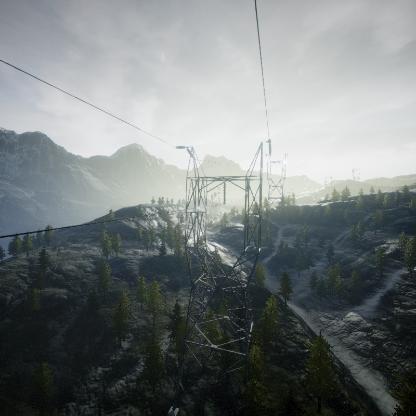tower: (174, 135, 275, 367), (264, 151, 287, 204)
